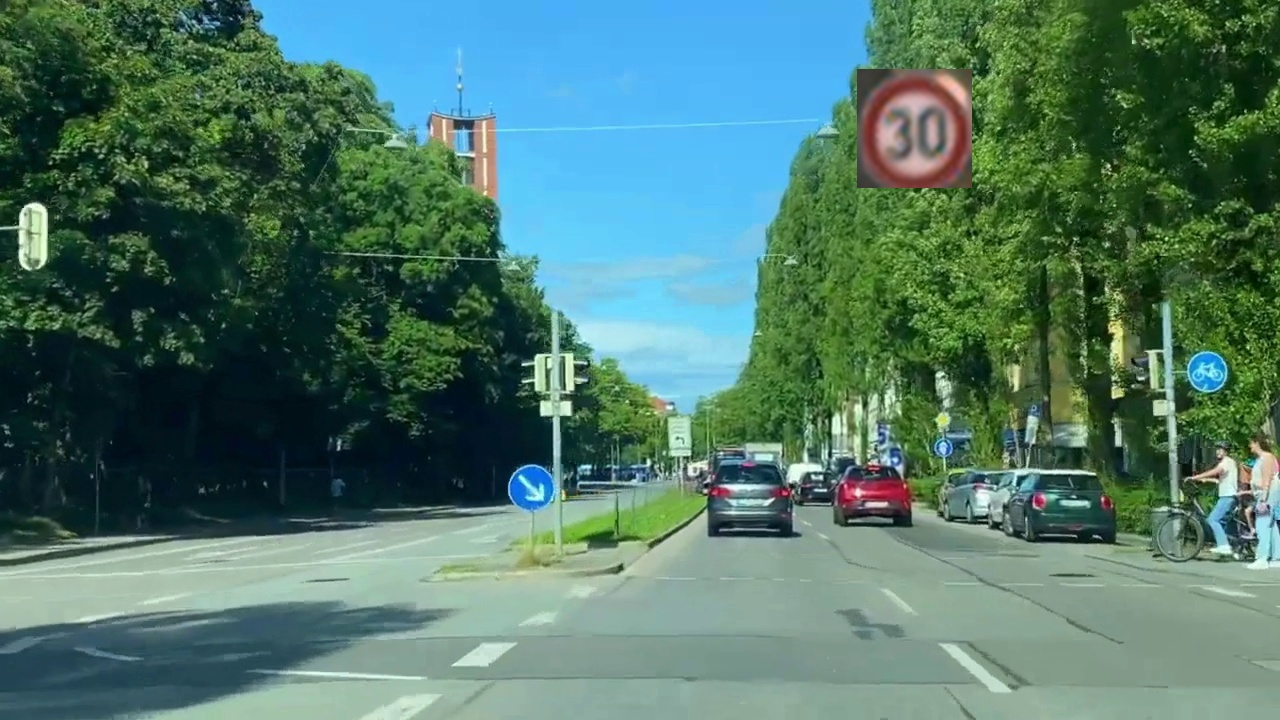Speed 30: (857, 69, 972, 188)
